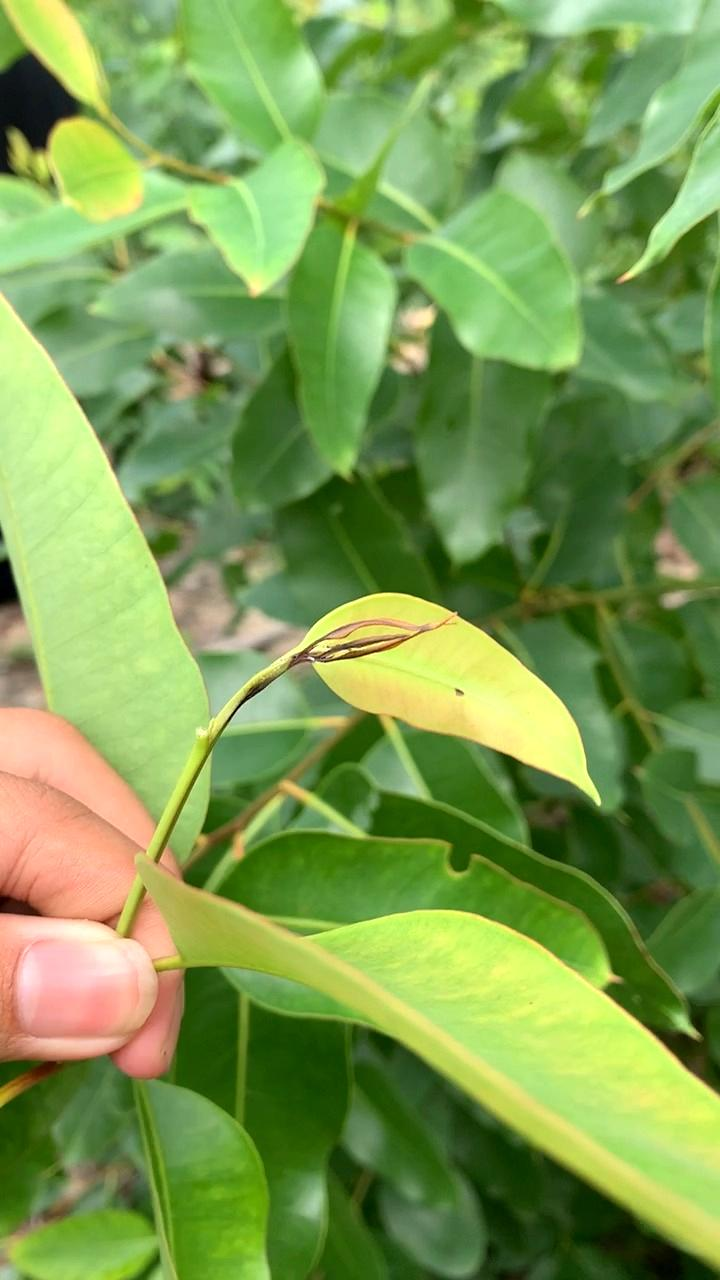Helopeltis-Withered Sprout: (296, 608, 465, 663)
